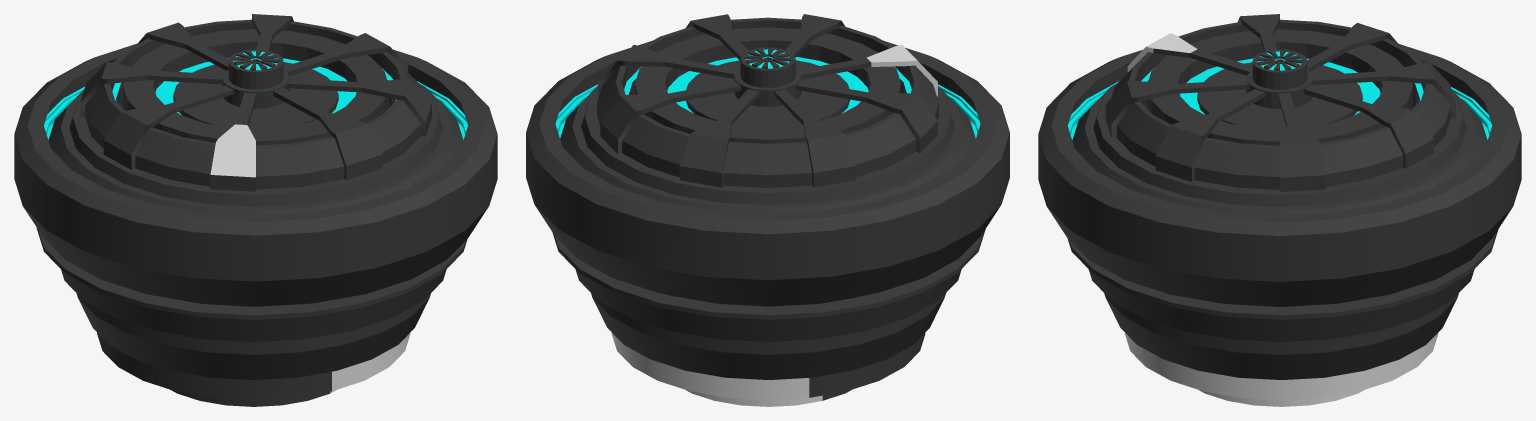
The model's file is ironman_arc2.dae.
The picture shows the model from 3 angles, left to right: view 1: azimuth 30°, elevation 25°; view 2: azimuth 150°, elevation 25°; view 3: azimuth 270°, elevation 25°; orthographic projection.
Parts seen in each view (by area): view 1: Group1; view 2: Group1; view 3: Group1.
Part boxes in pixels (x1,y1,x2,y2): Group1: (14, 14, 497, 406); Group1: (526, 14, 1009, 406); Group1: (1038, 14, 1521, 406).
Size of the model in its own units: 8625 by 8625 by 5959.
